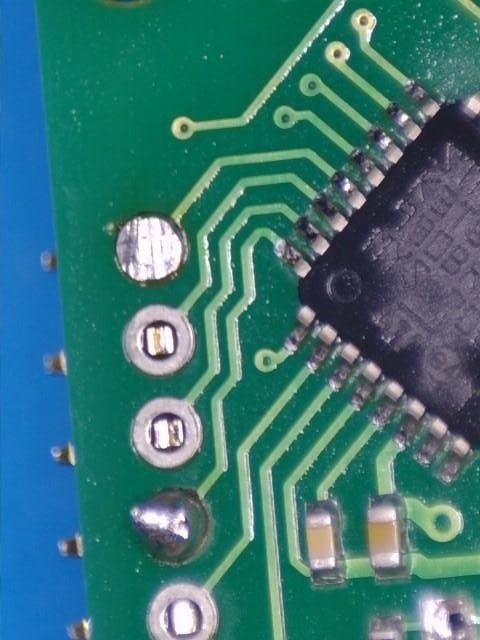pcb_defect: (130, 490, 206, 560)
